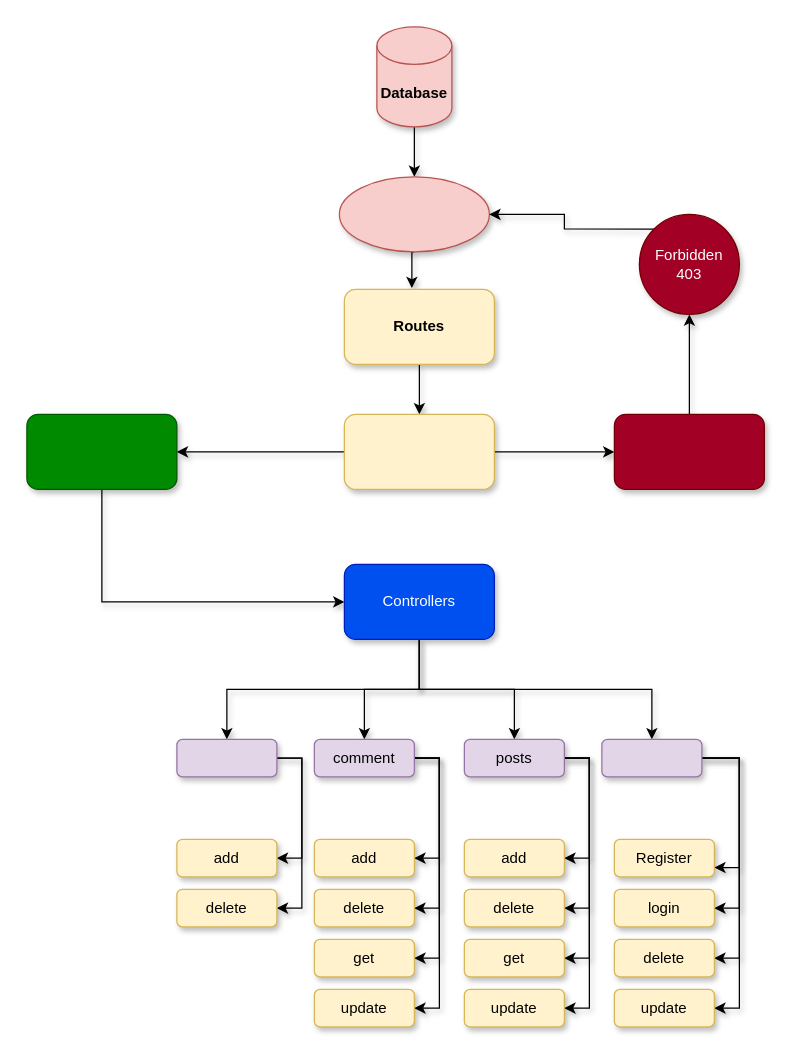
Image size: 794x1058. Some labels were removed from this diagram. The centre of each missing label's shape, as x and y in pixels:
"Authorization Authentication ok 200" goes at (x=102, y=453).
"like" goes at (x=227, y=759).
"MiddleWare" goes at (x=420, y=453).
"No Authorization No Authentication" goes at (x=690, y=453).
"Server" goes at (x=415, y=216).
"user" goes at (x=652, y=759).
